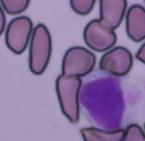L: (75, 70, 144, 133)
